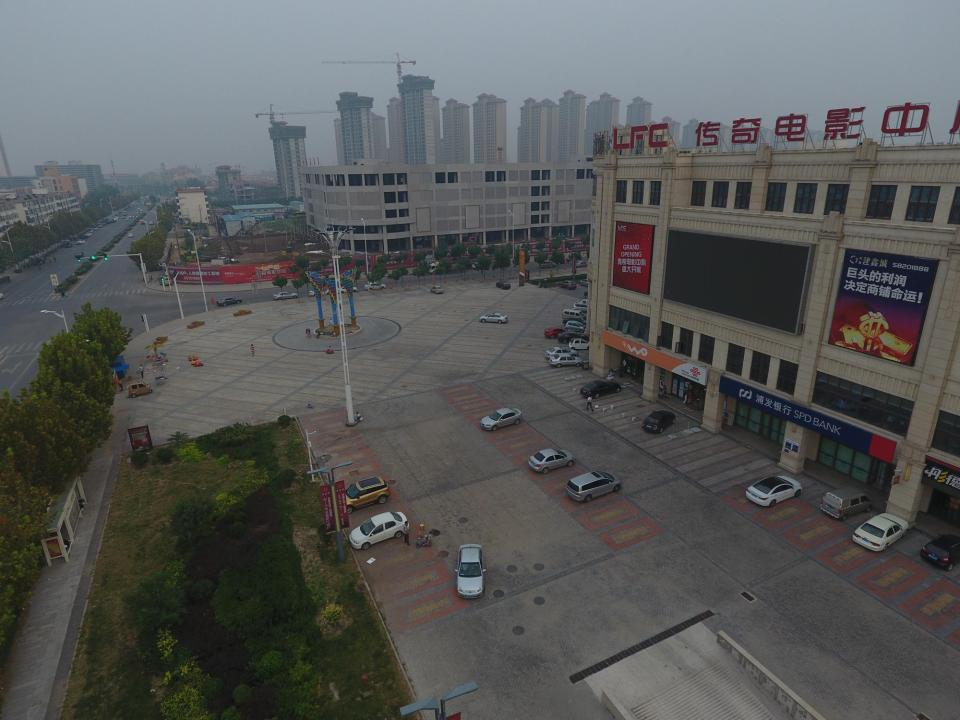car: (348, 511, 408, 550), (853, 513, 909, 552), (336, 477, 390, 514), (746, 475, 803, 507), (454, 543, 486, 598), (566, 472, 622, 503), (918, 532, 960, 571), (530, 448, 574, 474), (480, 408, 522, 432), (642, 411, 676, 434), (580, 380, 622, 398), (544, 326, 575, 339), (550, 354, 583, 366), (558, 331, 590, 343), (544, 346, 578, 357), (478, 313, 508, 323), (564, 320, 586, 332), (569, 338, 591, 350), (562, 317, 590, 326), (215, 297, 242, 305), (573, 302, 594, 312), (273, 292, 298, 300), (364, 282, 387, 290), (309, 288, 330, 296), (558, 280, 576, 289), (539, 260, 556, 268), (584, 291, 601, 299), (336, 286, 358, 292), (576, 300, 594, 307), (430, 286, 444, 294), (496, 282, 512, 289), (580, 280, 594, 288), (556, 258, 571, 265), (472, 262, 485, 269), (34, 258, 46, 265), (575, 261, 589, 267), (153, 261, 161, 271), (74, 251, 84, 258), (58, 238, 70, 243), (76, 238, 85, 244), (79, 234, 88, 240), (127, 232, 135, 238), (66, 242, 72, 248), (84, 232, 92, 236), (148, 220, 154, 225), (87, 229, 94, 233), (92, 226, 99, 230)
truck: (428, 262, 458, 274)
van: (820, 486, 873, 521), (563, 308, 586, 322), (158, 276, 172, 285), (98, 223, 104, 228)
